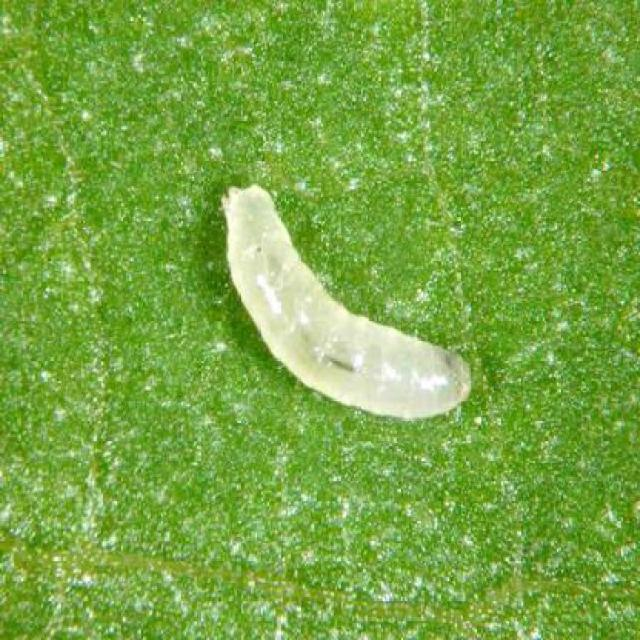whorl-maggot: (216, 172, 478, 430)
